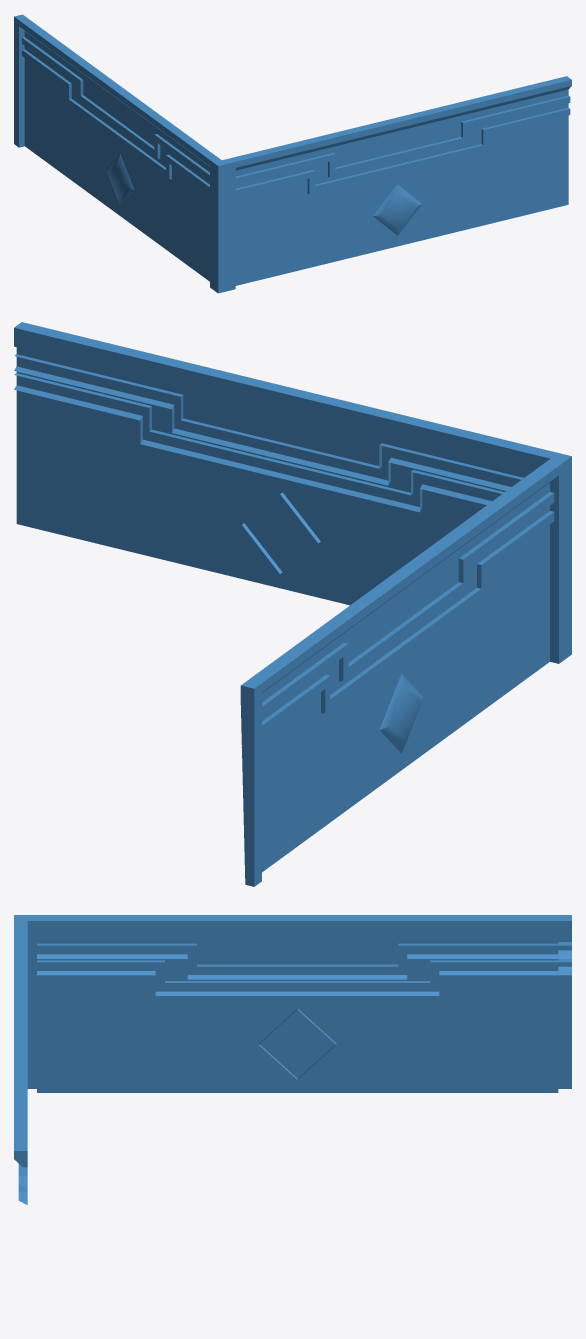
File: Pod_Wall_Cor_A.fbx
3 views of the same model, one above another, from view 1: azimuth 30°, elevation 25°; view 2: azimuth 150°, elevation 25°; view 3: azimuth 270°, elevation 25° (orthographic). The views are drawn at different scales.
Visible parts, largest first — view 1: Pod_Wall_Cor_A; view 2: Pod_Wall_Cor_A; view 3: Pod_Wall_Cor_A.
Part boxes in pixels (left/top/right/bottom): Pod_Wall_Cor_A: left=14, top=14, right=571, bottom=293; Pod_Wall_Cor_A: left=14, top=322, right=571, bottom=886; Pod_Wall_Cor_A: left=14, top=915, right=571, bottom=1204.
Bounding box in the file's own units: 915 × 315 × 915.
